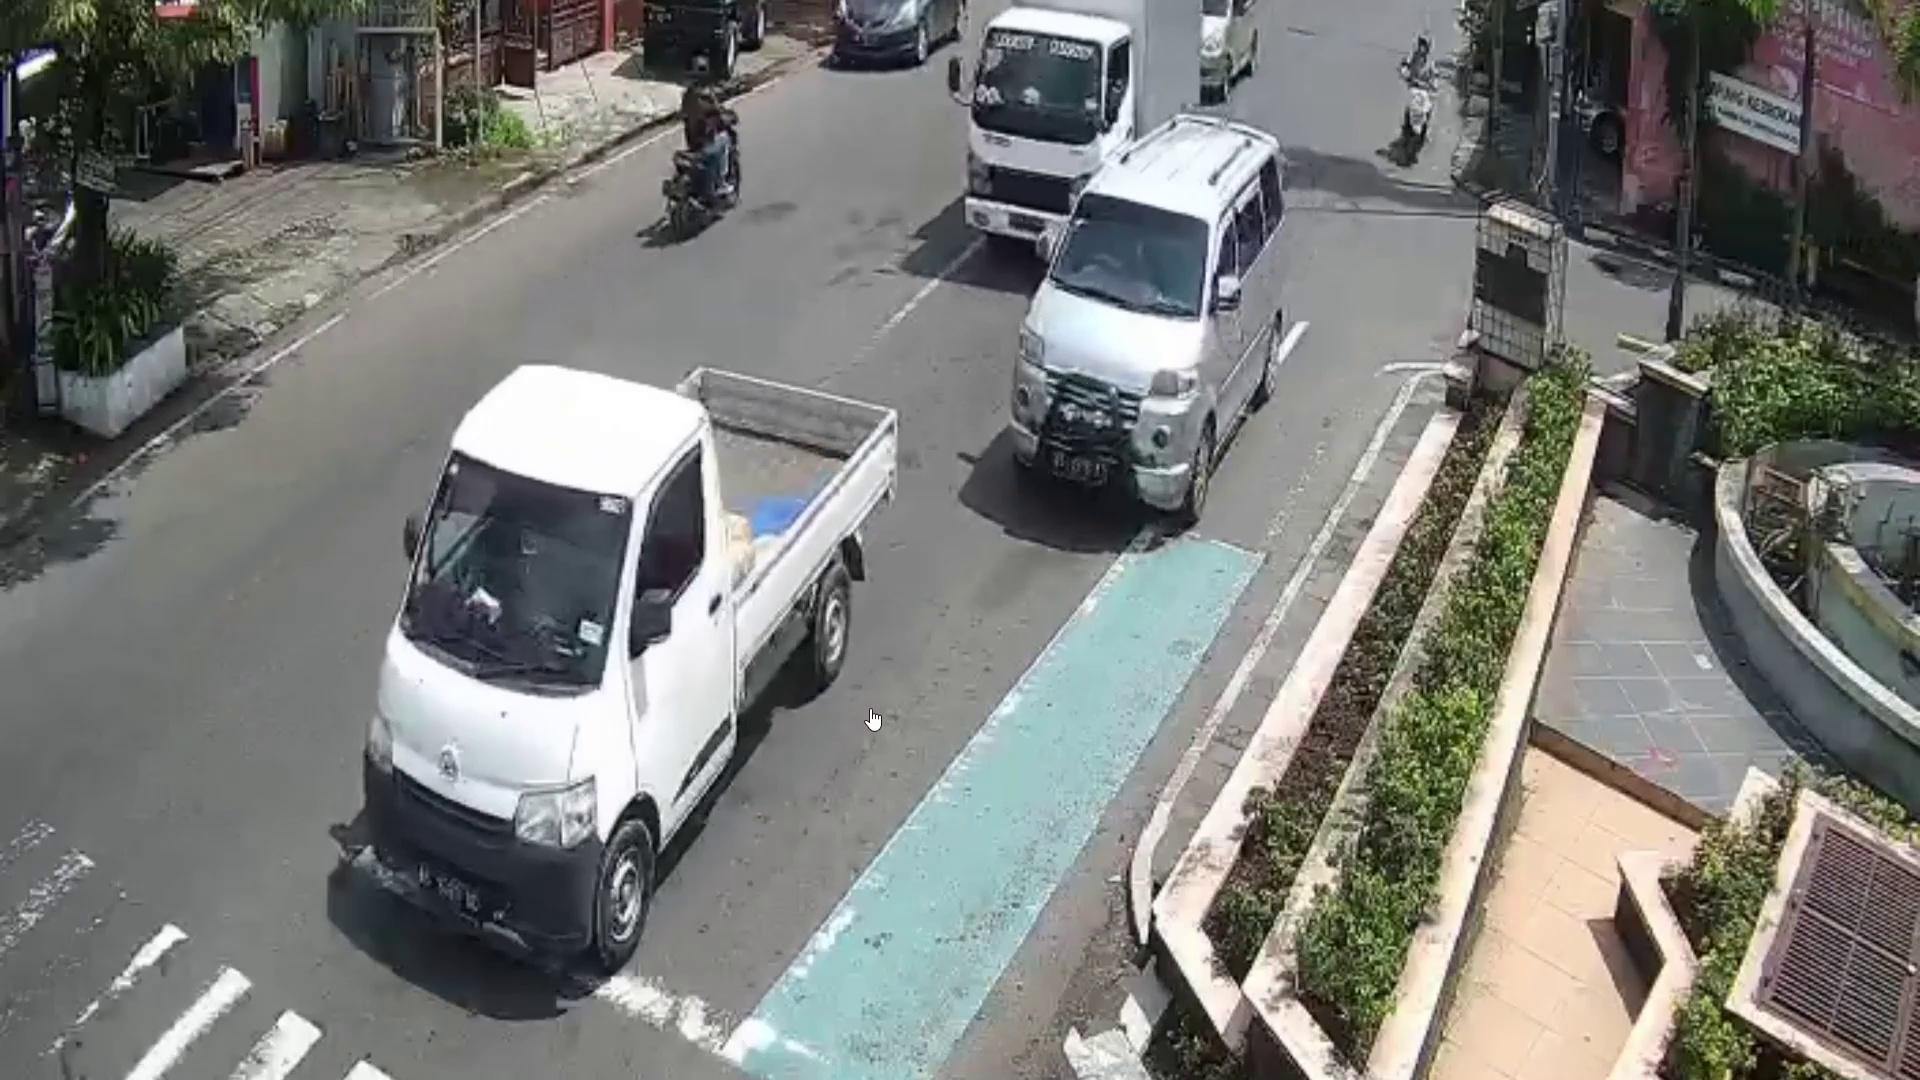car: (365, 365, 901, 968), (1013, 109, 1287, 530), (829, 0, 967, 63)
motorbike: (667, 103, 750, 223), (1402, 69, 1435, 170)
truck: (969, 0, 1207, 252)
